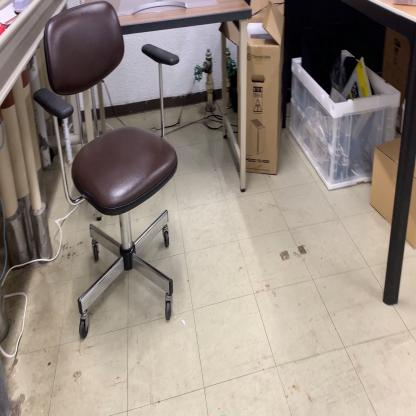chair: (33, 0, 182, 339)
